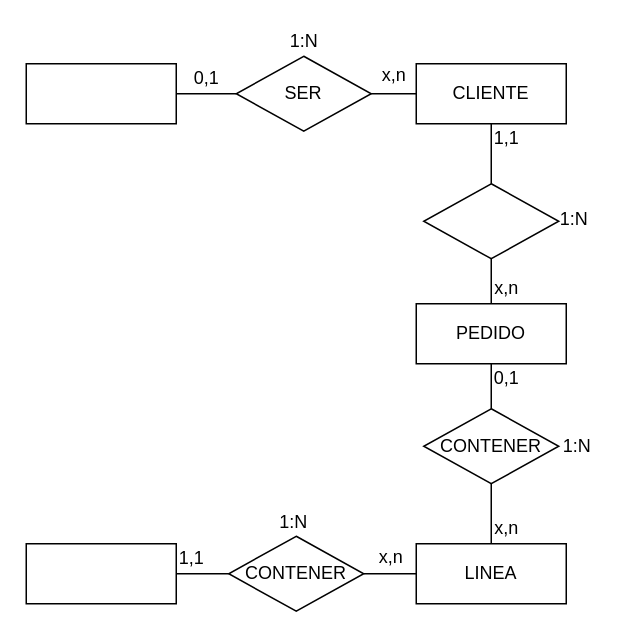
Some shapes in this 626 by 638 pixel diagram are drawn without their labels. The centre of each missing label's shape, as x and y in pixels:
"PRODUCTO" goes at pixel 100 573.
"REALIZAR" goes at pixel 490 220.
"USUARIO" goes at pixel 100 93.
